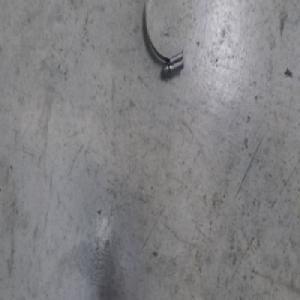AdjustableClamp: (143, 0, 194, 78)
